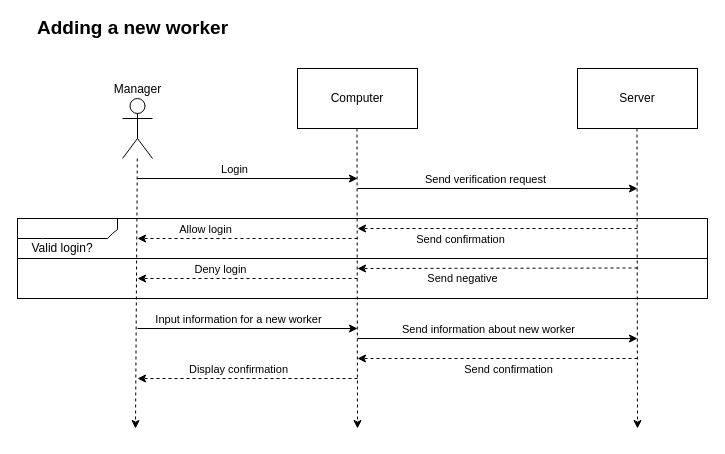
Some shapes in this 725 by 454 pixel diagram are drawn without their labels. The shapes that lost their labels are listed below. From the top down, each one's centre as x and y in pixels, then its label:
At (67,228): "Alternate".
At (362,278): "else".
